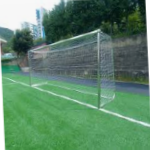goals: (27, 27, 118, 113)
